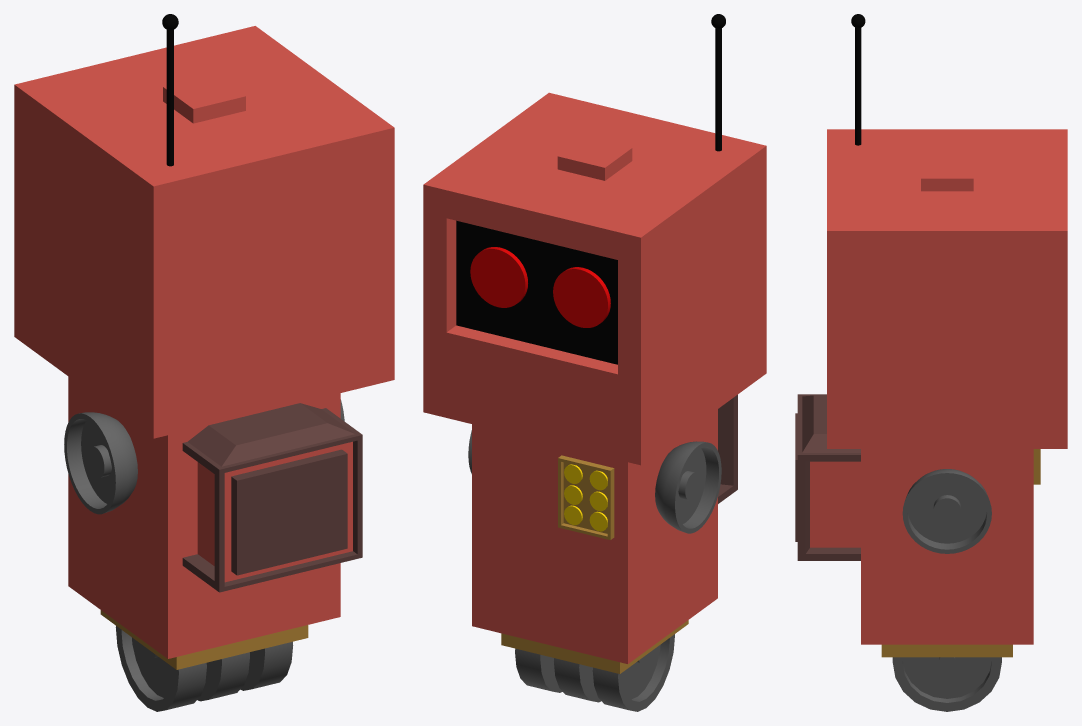
The model's file is Robot 1.fbx.
3 views of the same model, side by side, from view 1: azimuth 30°, elevation 25°; view 2: azimuth 150°, elevation 25°; view 3: azimuth 270°, elevation 25° (orthographic). The views are drawn at different scales.
Visible parts, largest first — view 1: pCube1, pCube2, pCube4, pSphere3, pCylinder13, pCube3, pCylinder12, pCylinder11, pCylinder3; view 2: pCube1, pCube2, pSphere3, pCylinder13, pCylinder1, pCylinder2, pCube3, pCube4, pCylinder12, pCylinder11, pCylinder3; view 3: pCube1, pCube2, pCube4, pSphere2, pCylinder11, pCube3, pCylinder3.
Part boxes in pixels (left/top/right/bottom): pCube1: left=14, top=26, right=394, bottom=438; pCube2: left=68, top=376, right=340, bottom=658; pCube4: left=182, top=403, right=362, bottom=592; pSphere3: left=64, top=412, right=137, bottom=514; pCylinder13: left=115, top=626, right=206, bottom=711; pCube3: left=100, top=610, right=308, bottom=669; pCylinder12: left=197, top=652, right=249, bottom=701; pCylinder11: left=240, top=641, right=293, bottom=690; pCylinder3: left=166, top=30, right=173, bottom=166; pCube1: left=423, top=92, right=766, bottom=465; pCube2: left=472, top=409, right=717, bottom=663; pSphere3: left=655, top=441, right=721, bottom=533; pCylinder13: left=592, top=634, right=674, bottom=711; pCylinder1: left=470, top=247, right=527, bottom=307; pCylinder2: left=553, top=267, right=610, bottom=327; pCube3: left=501, top=620, right=688, bottom=673; pCube4: left=718, top=394, right=737, bottom=503; pCylinder12: left=554, top=658, right=601, bottom=702; pCylinder11: left=515, top=648, right=562, bottom=692; pCylinder3: left=715, top=28, right=721, bottom=151; pCube1: left=827, top=129, right=1067, bottom=448; pCube2: left=861, top=449, right=1040, bottom=644; pCube4: left=795, top=394, right=860, bottom=560; pSphere2: left=902, top=469, right=991, bottom=553; pCylinder11: left=892, top=657, right=1001, bottom=711; pCube3: left=881, top=644, right=1012, bottom=657; pCylinder3: left=855, top=27, right=861, bottom=145.
Size of the model in its own units: 8 by 23.39 by 9.05.
